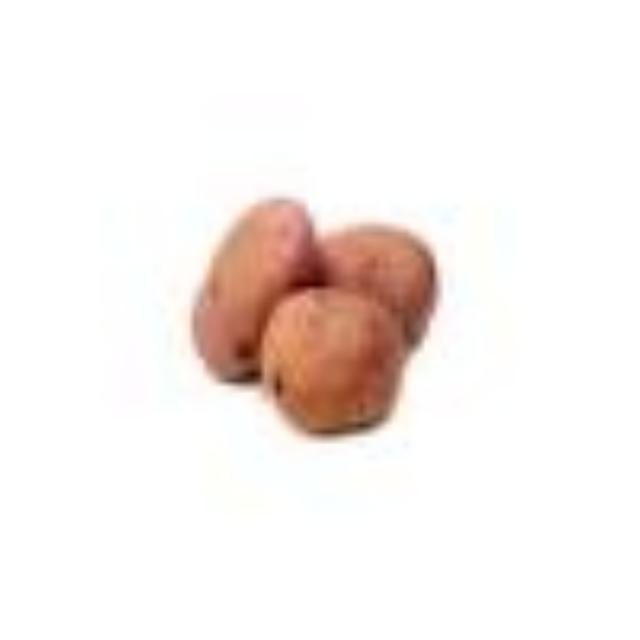Diseased-fungal potato: (186, 194, 328, 390), (257, 287, 413, 441), (297, 221, 443, 365)
